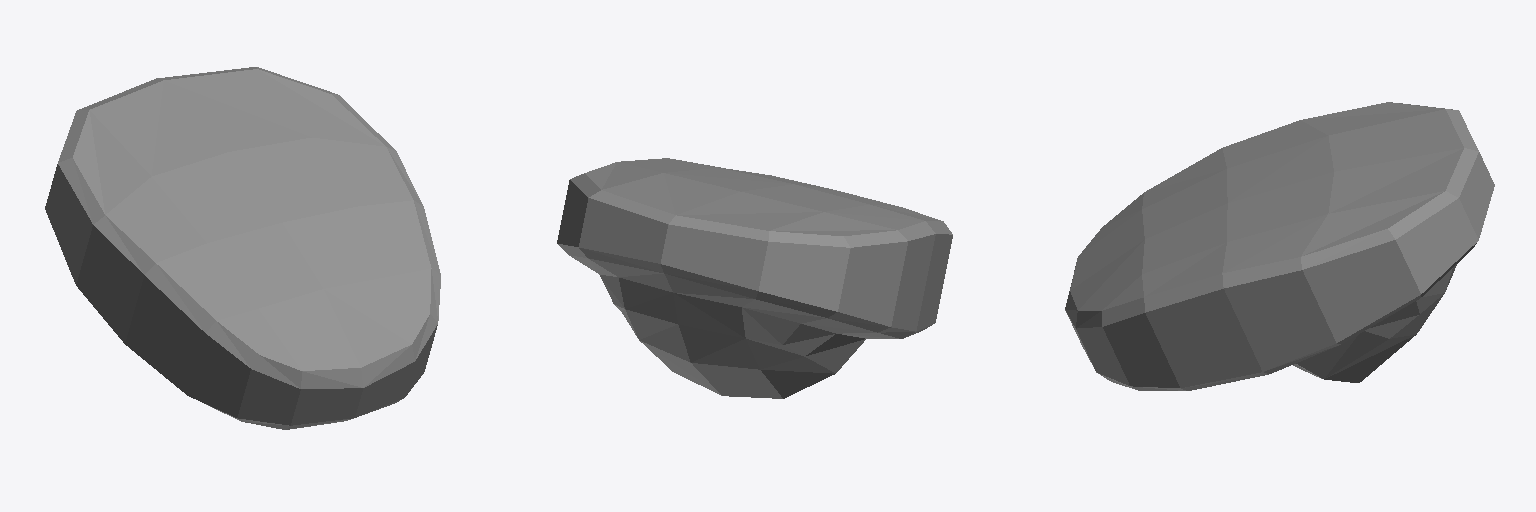
The model's file is faroDer.obj.
The picture shows the model from 3 angles: view 1: azimuth 30°, elevation 25°; view 2: azimuth 150°, elevation 25°; view 3: azimuth 270°, elevation 25°; orthographic projection.
Visible parts, largest first — view 1: lHeadlight; view 2: lHeadlight; view 3: lHeadlight.
Boxes of the visible parts, x1=… form: lHeadlight: x1=45, y1=67, x2=440, y2=429; lHeadlight: x1=557, y1=158, x2=952, y2=398; lHeadlight: x1=1065, y1=102, x2=1494, y2=390.
Size of the model in its own units: 0.772 by 0.5266 by 0.9485.